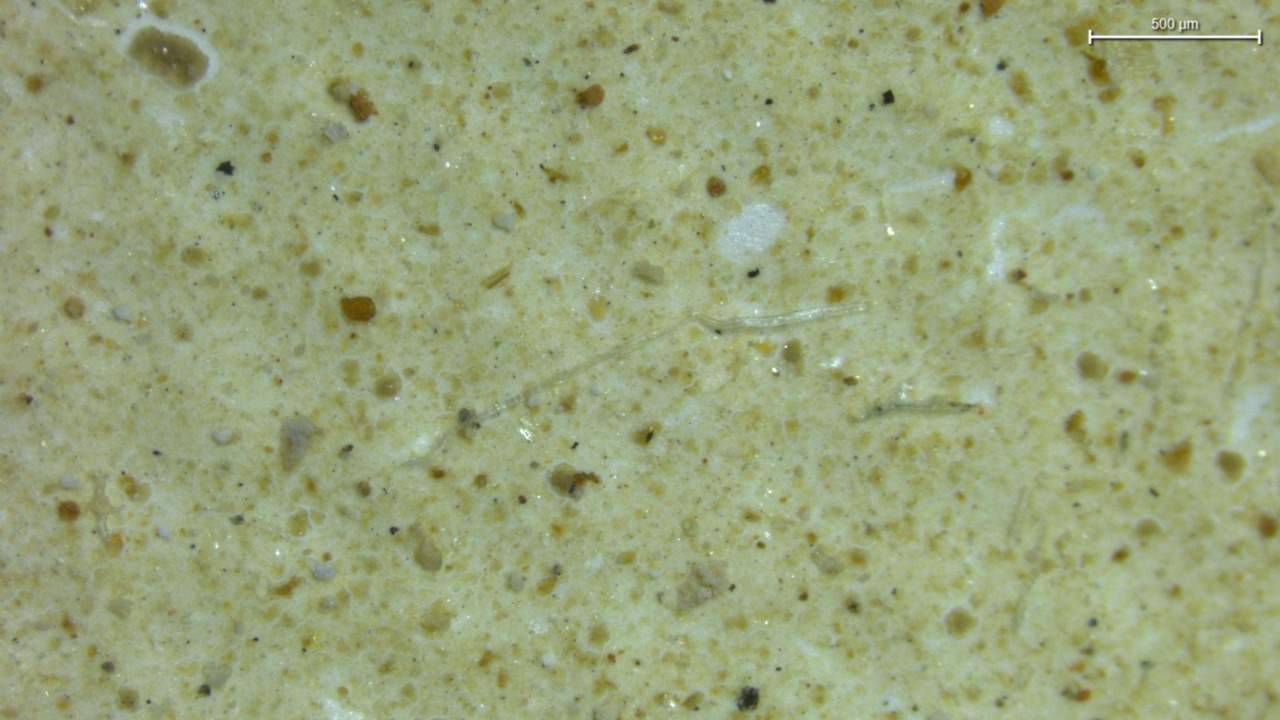microplastic_fragment: (280, 418, 314, 470), (323, 123, 348, 143), (212, 428, 236, 445), (493, 213, 515, 231)
